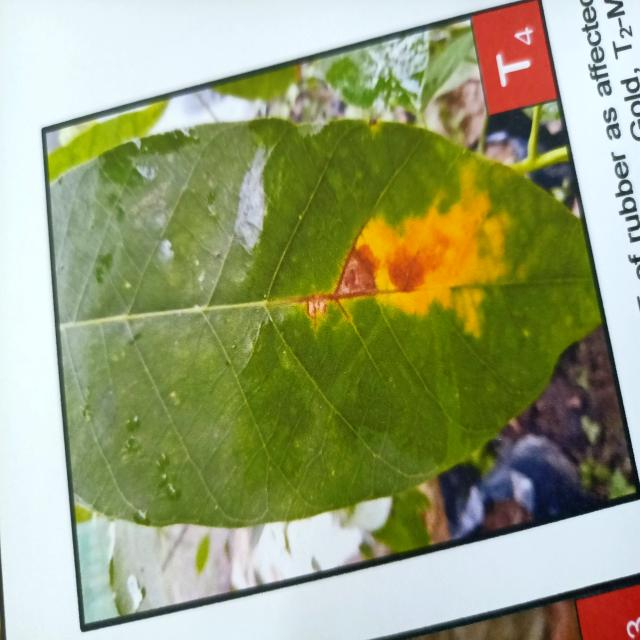Corynespora: (288, 221, 376, 332)
